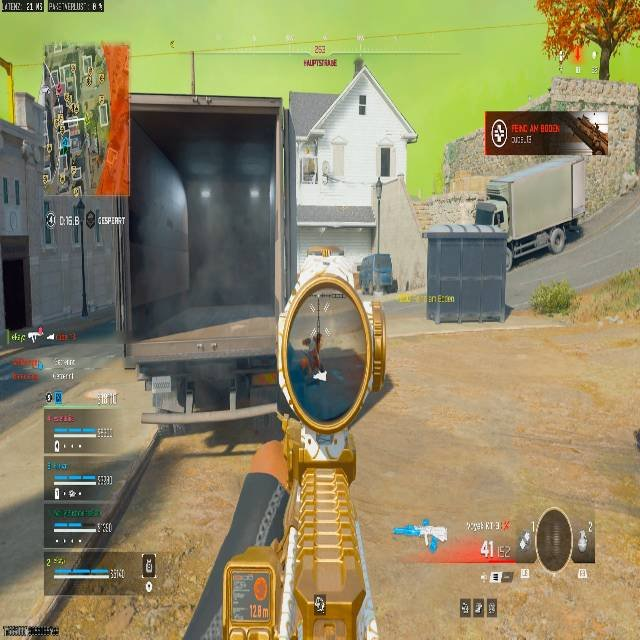player: (300, 328, 325, 382)
